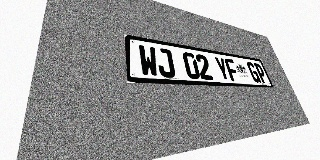0: (182, 51, 201, 79)
2: (195, 53, 213, 80)
F: (224, 58, 241, 81)
G: (246, 62, 261, 83)
J: (155, 47, 176, 78)
P: (253, 63, 268, 83)
W: (138, 44, 159, 77)
Y: (214, 57, 231, 81)
